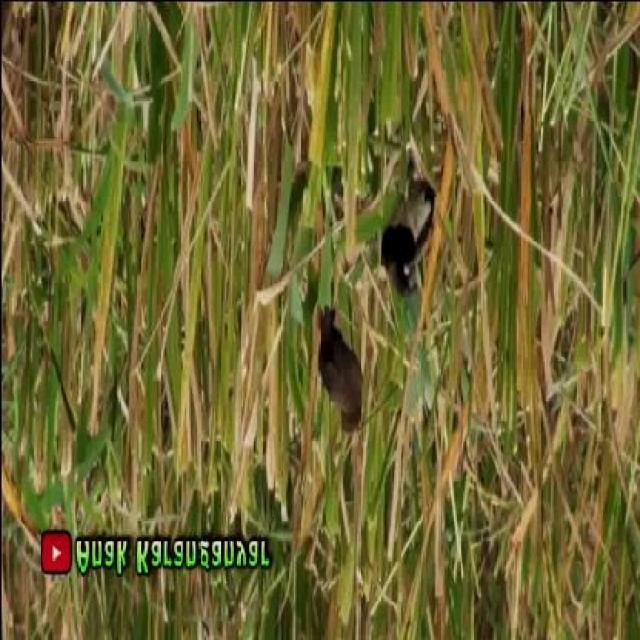Bird: (373, 169, 443, 308), (309, 293, 372, 435)
